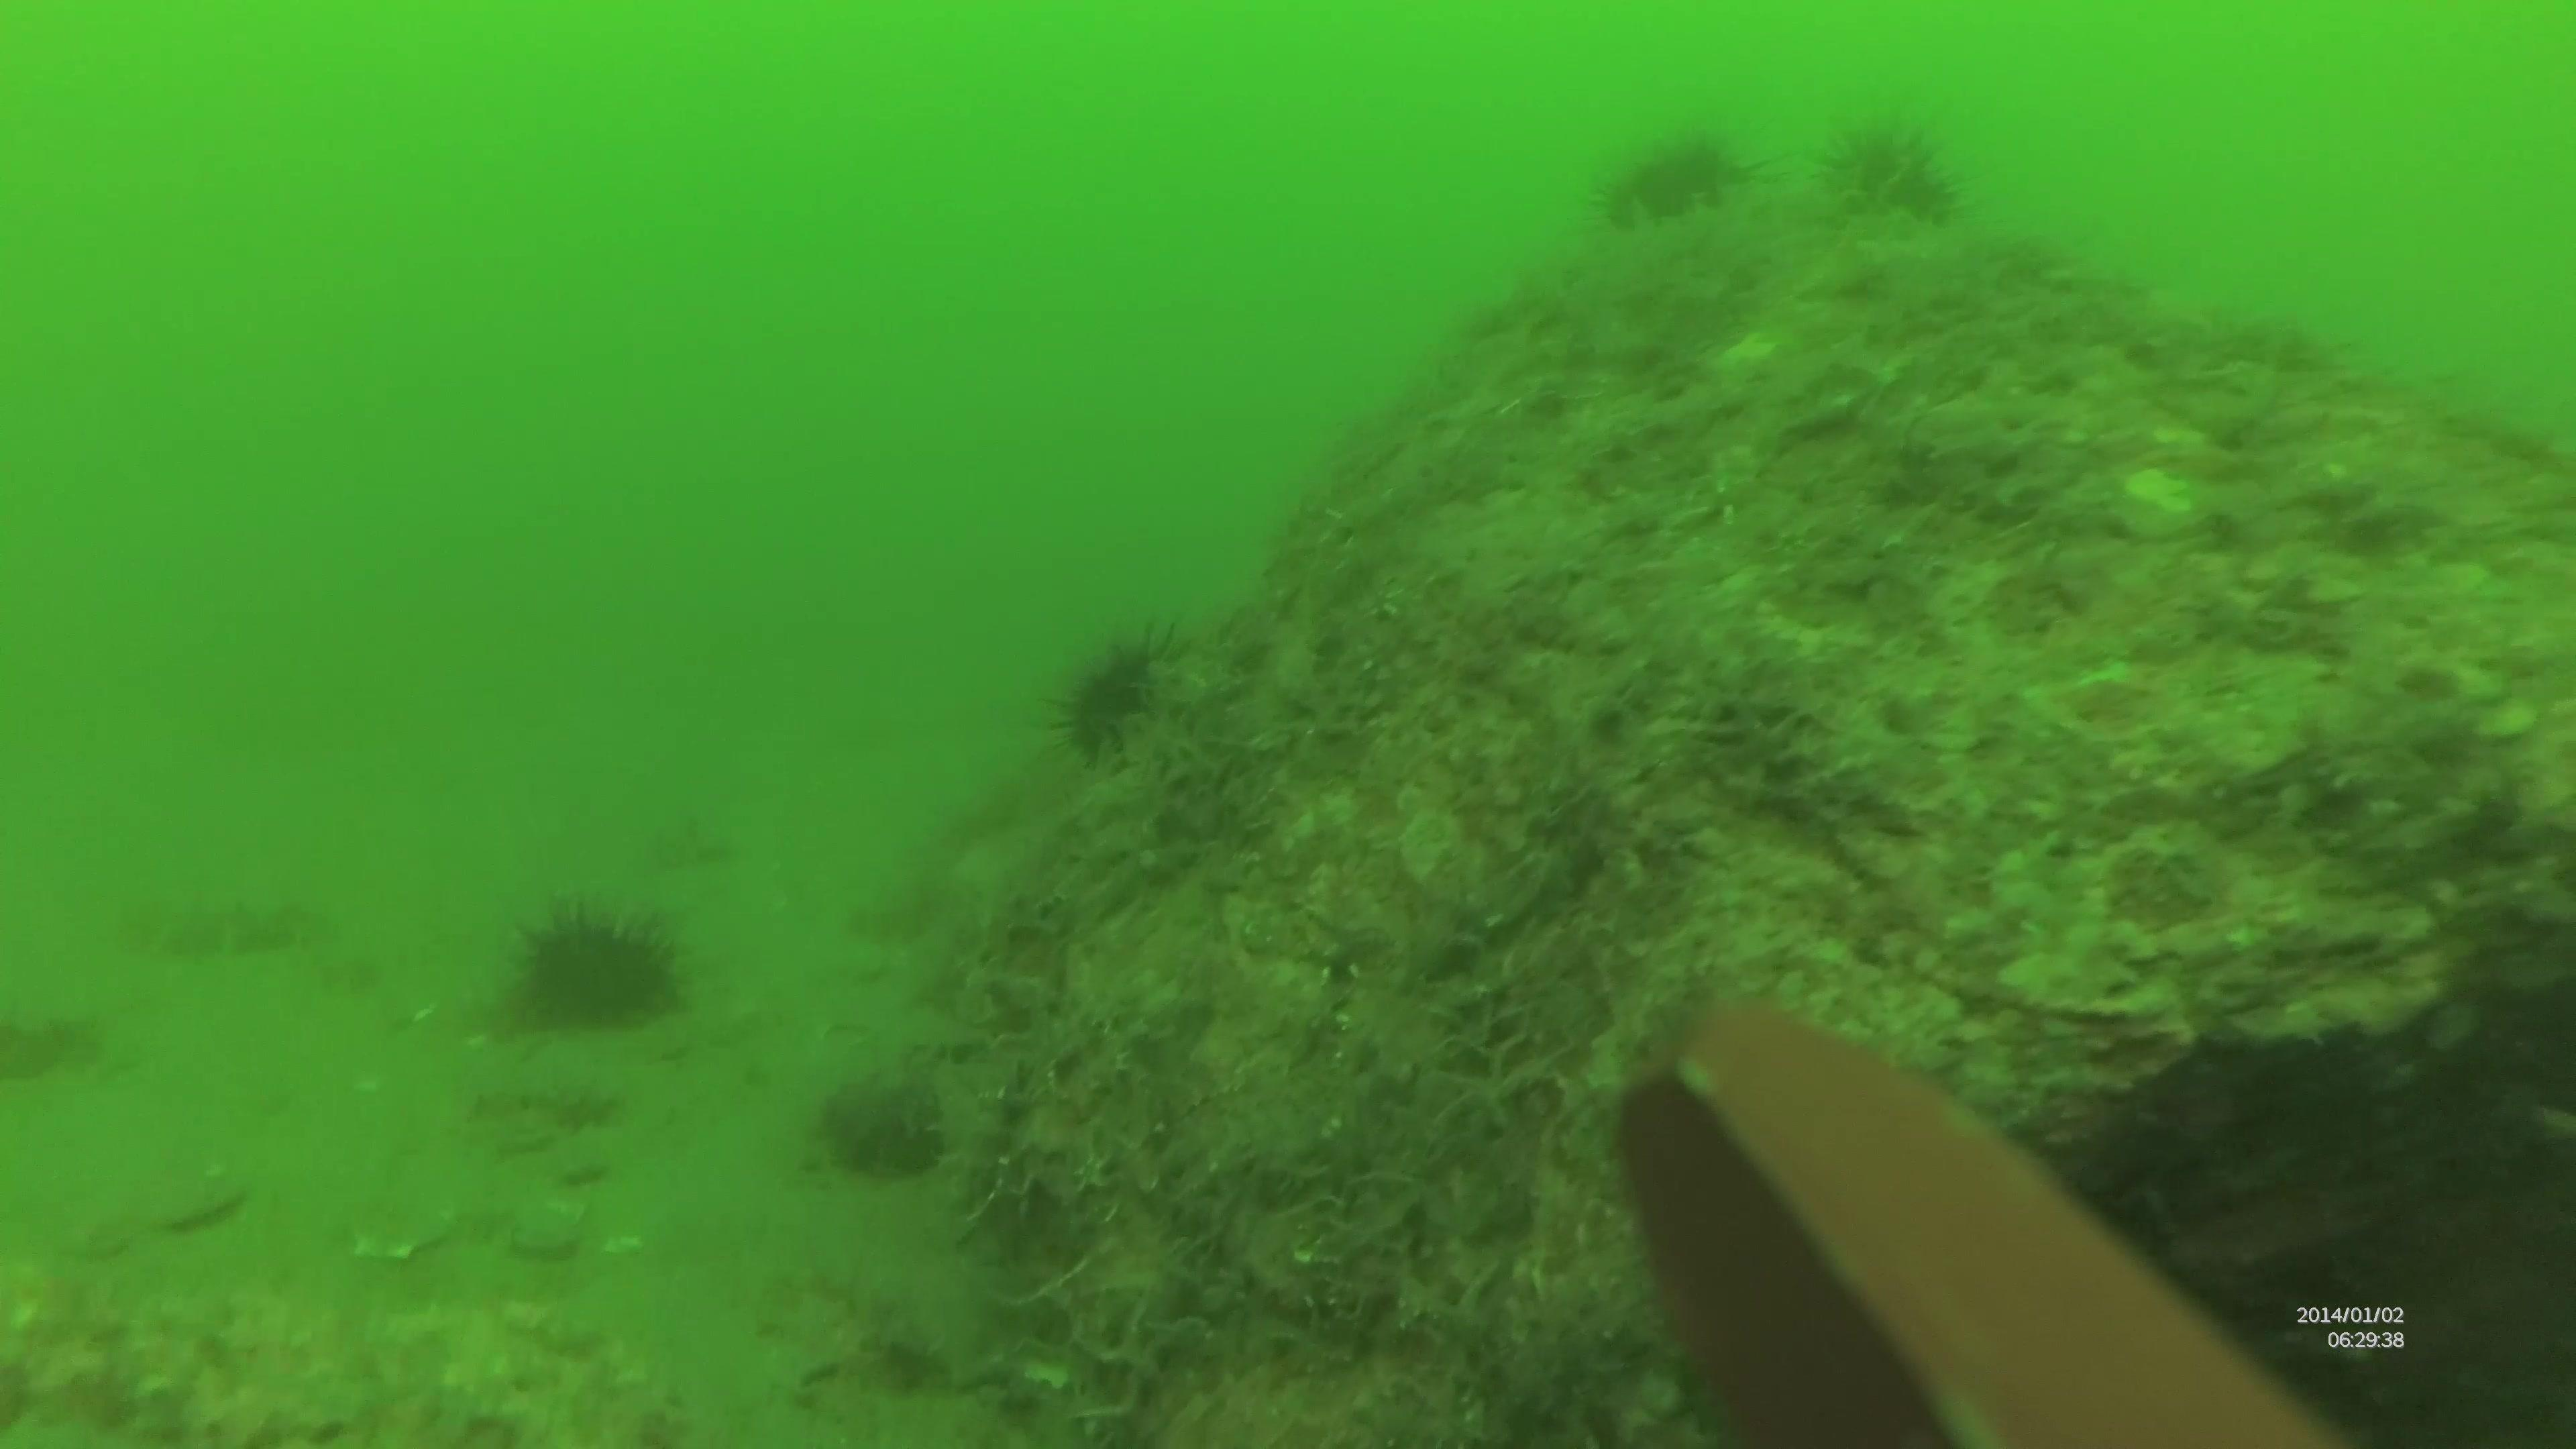echinus: (499, 904, 692, 1046), (1051, 632, 1208, 775), (1601, 131, 1759, 255), (1828, 117, 1962, 242)
holothurian: (117, 899, 336, 962)
